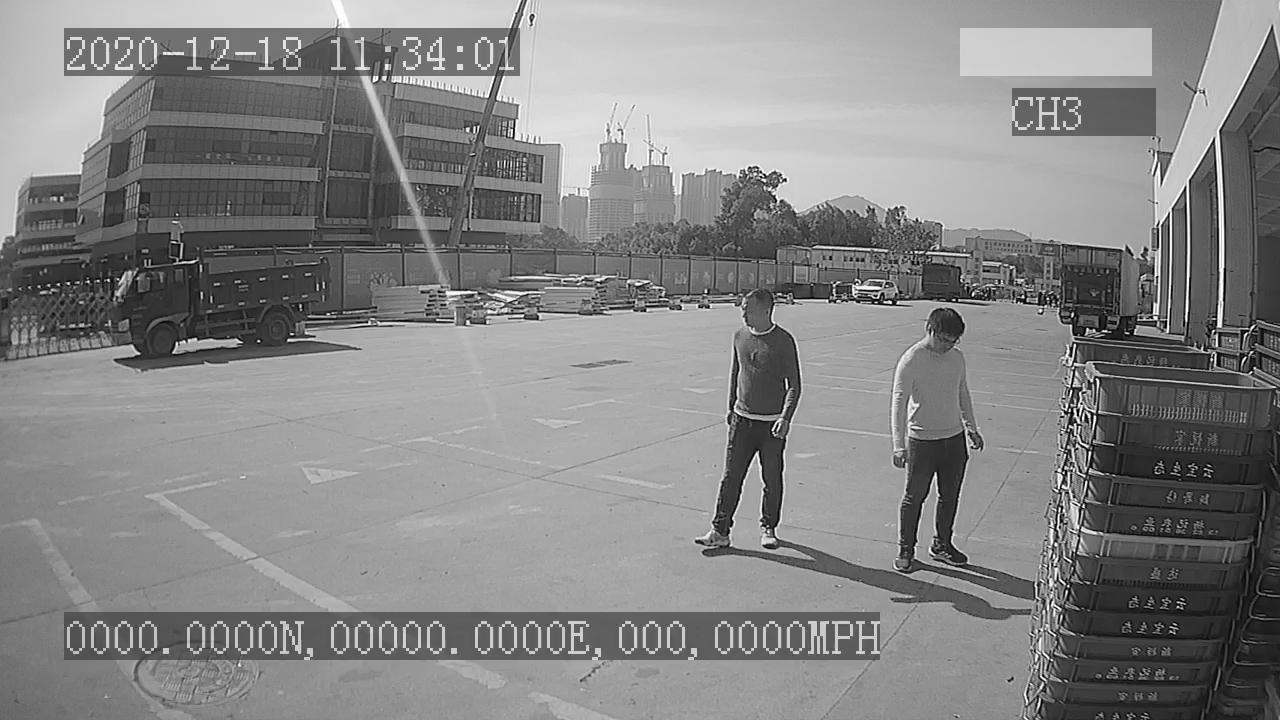person: (692, 287, 803, 553), (886, 306, 988, 573)
